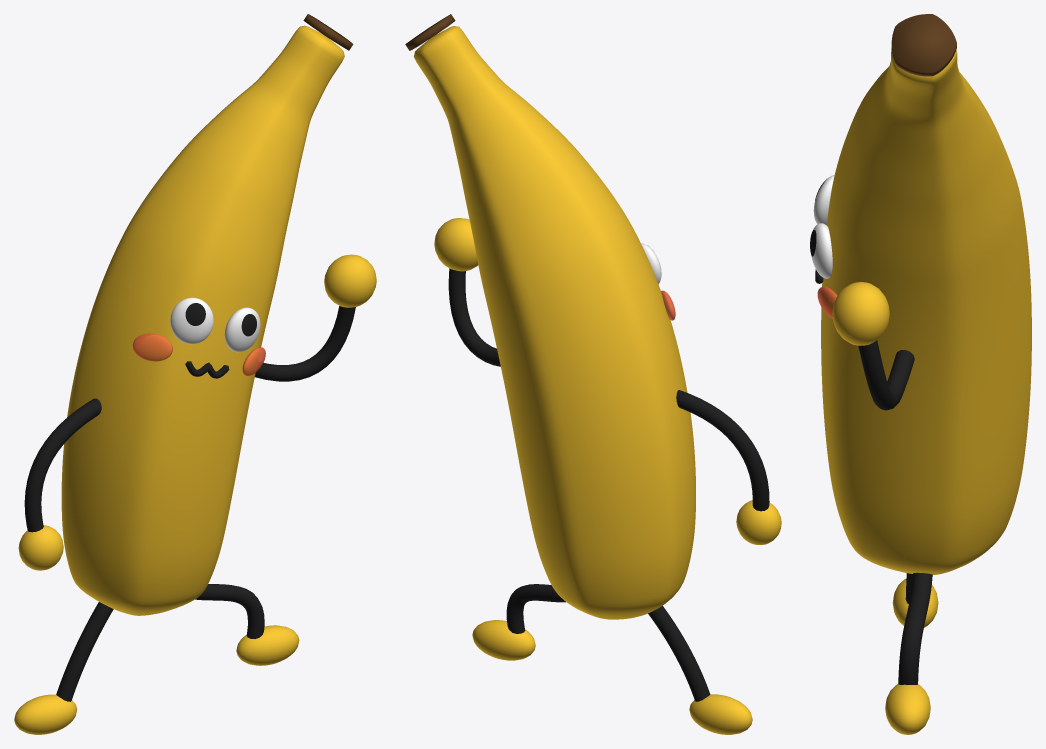
Rendered from banana.glb.
The picture shows the model from 3 angles, left to right: view 1: azimuth 30°, elevation 25°; view 2: azimuth 150°, elevation 25°; view 3: azimuth 270°, elevation 25°; orthographic projection. The views are drawn at different scales.
Visible parts, largest first — view 1: BananaMonster; view 2: BananaMonster; view 3: BananaMonster.
Part boxes in pixels (<box>): BananaMonster: <box>14,14,376,734</box>; BananaMonster: <box>405,14,781,734</box>; BananaMonster: <box>810,14,1031,734</box>.
Bounding box in the file's own units: 0.6238 × 1.11 × 0.2914.
